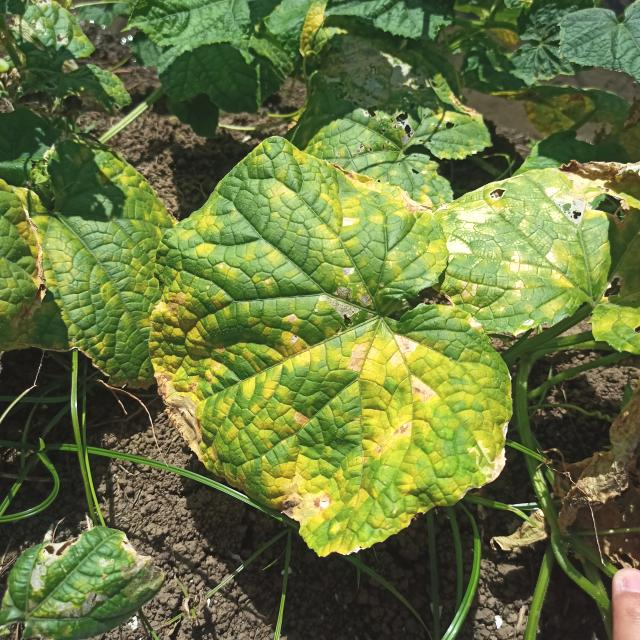disease_cucumber: (151, 139, 513, 551), (432, 167, 598, 324)
